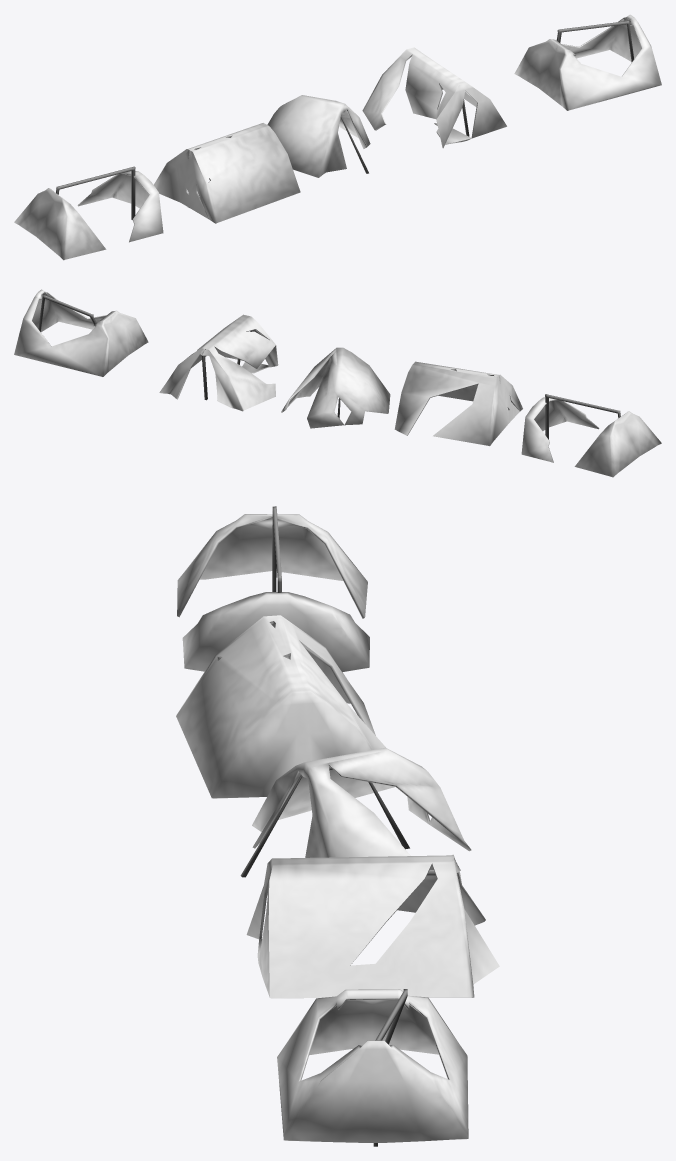
The model's file is DamagedTents_White.obj.
The picture shows the model from 3 angles, top to bottom: view 1: azimuth 30°, elevation 25°; view 2: azimuth 150°, elevation 25°; view 3: azimuth 270°, elevation 25°; orthographic projection. The views are drawn at different scales.
Parts seen in each view (by area): view 1: DamagedTent_Base.003_Material, DamagedTent_Base_Material, DamagedTent_Base.001_Material, DamagedTent_Base.004_Material, DamagedTent_Base.002_Material, Tent_SupportBar.009_Material.159, Tent_SupportBar.005_Material.159; view 2: DamagedTent_Base.003_Material, DamagedTent_Base_Material, DamagedTent_Base.001_Material, DamagedTent_Base.004_Material, DamagedTent_Base.002_Material, Tent_SupportBar.009_Material.159, Tent_SupportBar.005_Material.159; view 3: DamagedTent_Base.001_Material, DamagedTent_Base_Material, DamagedTent_Base.003_Material, DamagedTent_Base.004_Material, DamagedTent_Base.002_Material, Tent_SupportBar.007_Material.159.
Boxes of the visible parts, x1,y1,x2,y2 form: DamagedTent_Base.003_Material: [154, 123, 300, 223]; DamagedTent_Base_Material: [514, 14, 661, 110]; DamagedTent_Base.001_Material: [362, 47, 506, 148]; DamagedTent_Base.004_Material: [14, 171, 163, 260]; DamagedTent_Base.002_Material: [267, 95, 370, 177]; Tent_SupportBar.009_Material.159: [56, 166, 135, 219]; Tent_SupportBar.005_Material.159: [556, 20, 633, 62]; DamagedTent_Base.003_Material: [394, 361, 522, 446]; DamagedTent_Base_Material: [14, 289, 148, 376]; DamagedTent_Base.001_Material: [159, 314, 278, 411]; DamagedTent_Base.004_Material: [521, 397, 661, 477]; DamagedTent_Base.002_Material: [281, 347, 390, 428]; Tent_SupportBar.009_Material.159: [545, 394, 620, 439]; Tent_SupportBar.005_Material.159: [38, 295, 96, 331]; DamagedTent_Base.001_Material: [246, 854, 499, 998]; DamagedTent_Base_Material: [277, 989, 468, 1142]; DamagedTent_Base.003_Material: [176, 615, 385, 798]; DamagedTent_Base.004_Material: [177, 514, 369, 671]; DamagedTent_Base.002_Material: [252, 747, 471, 857]; Tent_SupportBar.007_Material.159: [240, 766, 409, 877].
Bounding box in the file's own units: 14.53 × 1.29 × 3.5.
